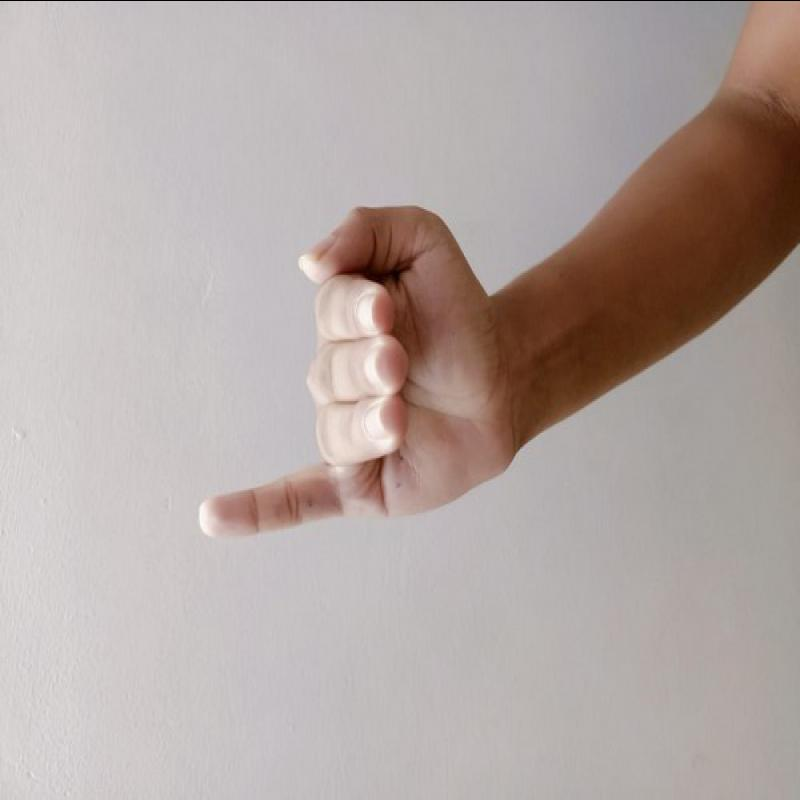Kartharee Mukham: (187, 190, 513, 579)
